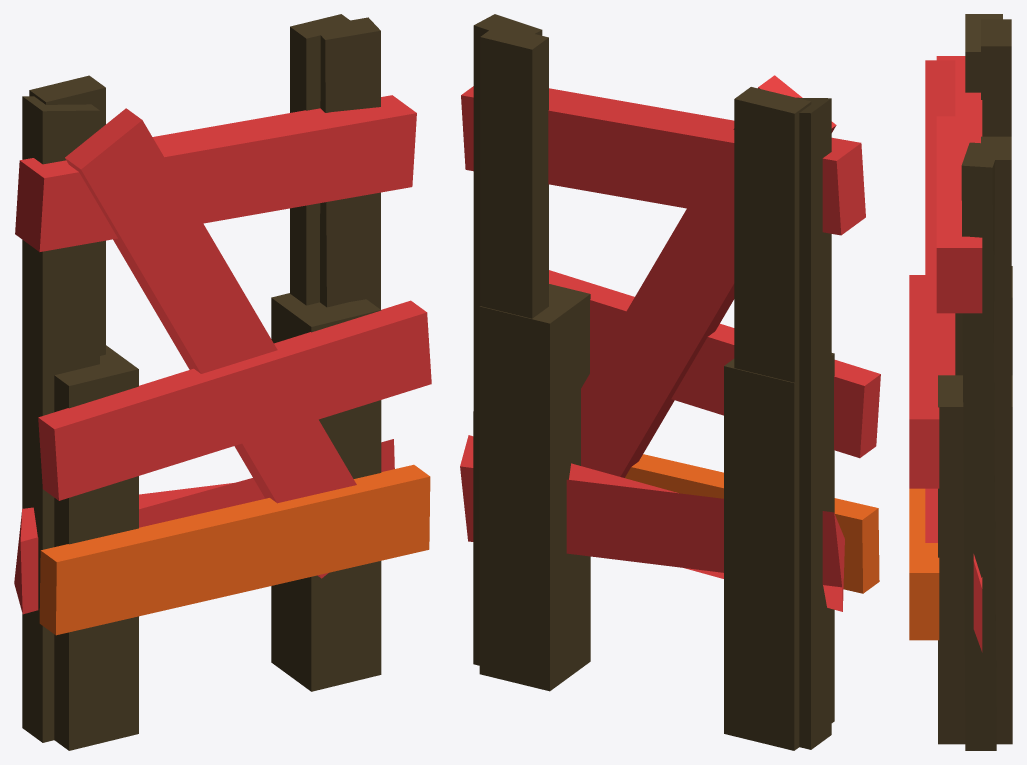
File: Obstacles.glb
3 views of the same model, side by side, from view 1: azimuth 30°, elevation 25°; view 2: azimuth 150°, elevation 25°; view 3: azimuth 270°, elevation 25° (orthographic). The views are drawn at different scales.
Parts seen in each view (by area): view 1: ObstacleJump, ObstacleSlide, ObstacleBlock; view 2: ObstacleBlock, ObstacleJump, ObstacleSlide; view 3: ObstacleSlide, ObstacleBlock, ObstacleJump.
Boxes of the visible parts, box(x1,y1,x2,y2) form: ObstacleJump: box(38, 293, 431, 750); ObstacleSlide: box(22, 17, 416, 742); ObstacleBlock: box(14, 14, 404, 614); ObstacleBlock: box(460, 29, 857, 611); ObstacleJump: box(479, 270, 880, 750); ObstacleSlide: box(469, 14, 865, 749); ObstacleSlide: box(936, 14, 1002, 750); ObstacleBlock: box(925, 19, 1011, 744); ObstacleJump: box(909, 266, 1012, 744).
Size of the model in its own units: 1.09 by 1.73 by 0.2772.
1 material, 1 textured.
